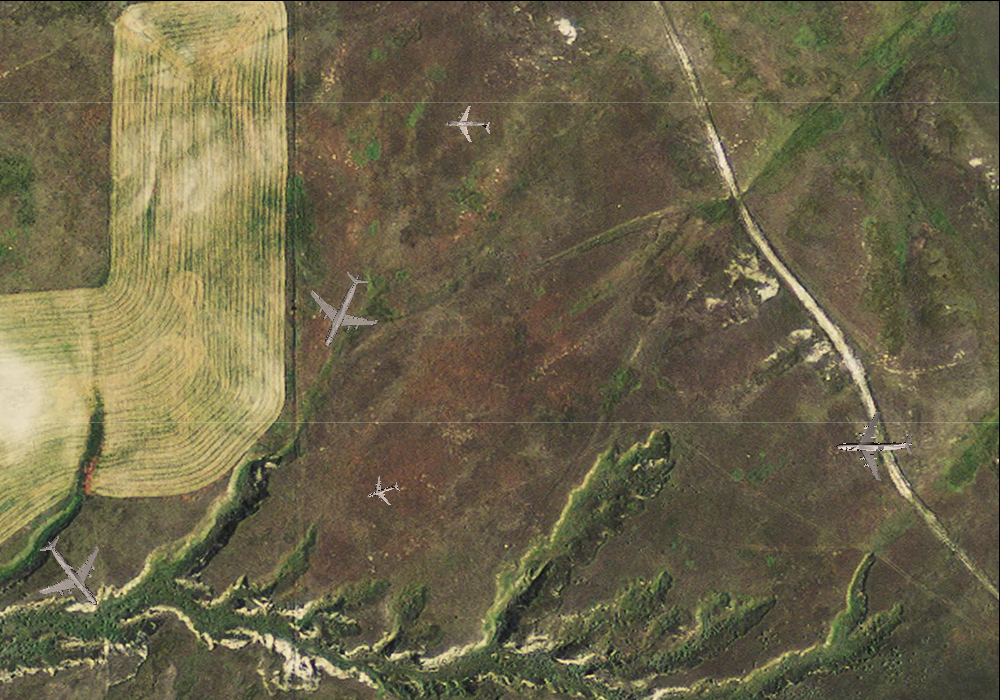plane: (17, 518, 125, 627), (292, 259, 392, 361), (836, 408, 914, 482), (444, 103, 491, 146), (361, 470, 404, 512)
